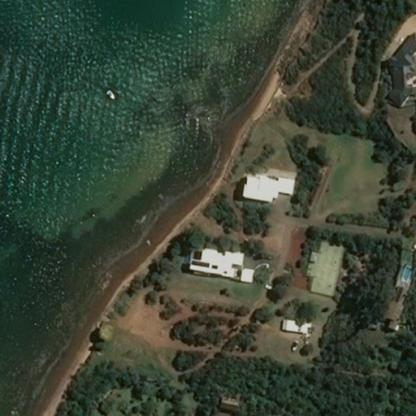ship: (104, 90, 113, 98)
